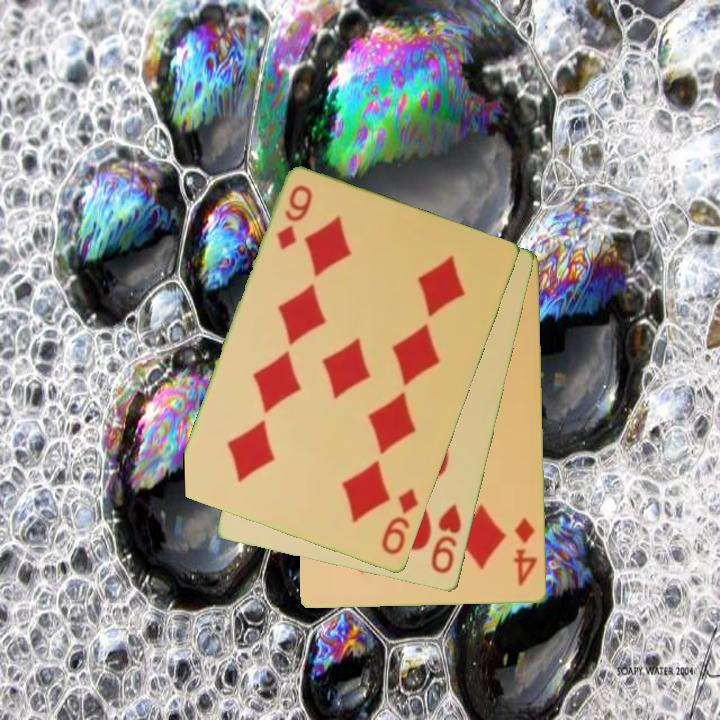4d: (510, 514, 540, 589)
9d: (378, 485, 421, 559), (273, 182, 316, 253)
9h: (428, 500, 465, 577)
